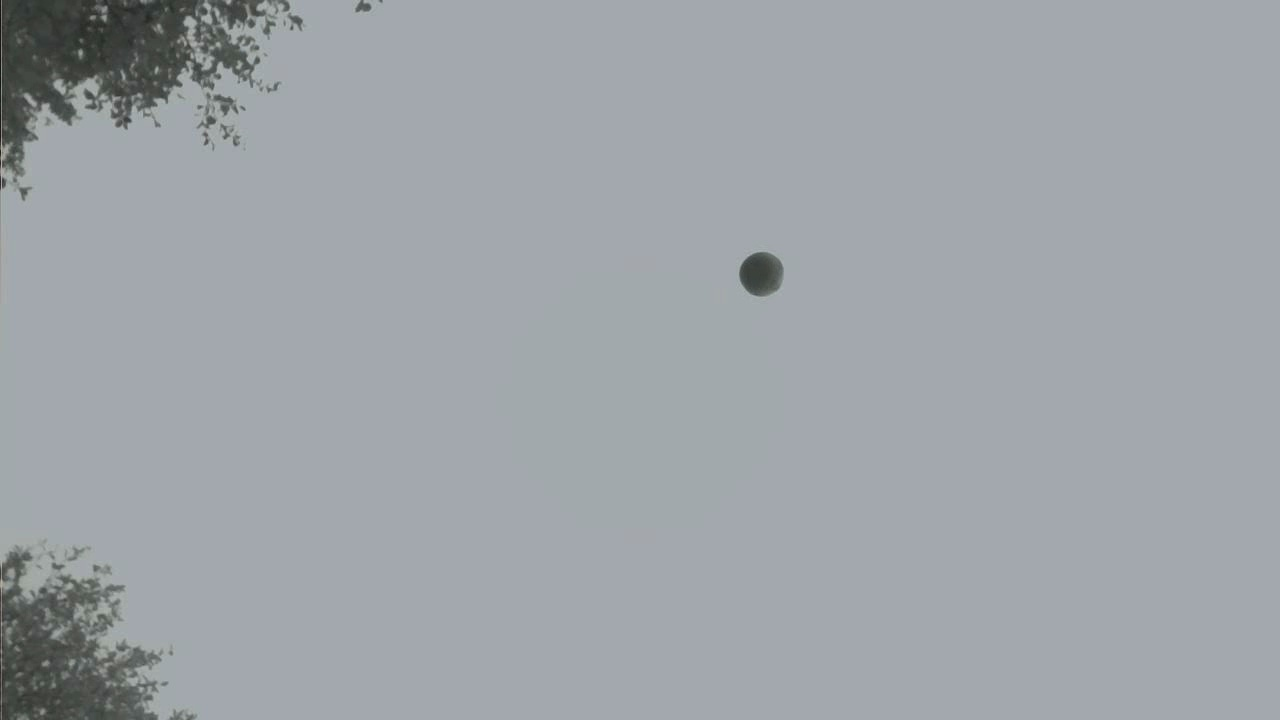Football-Spotter: (739, 253, 783, 296)
